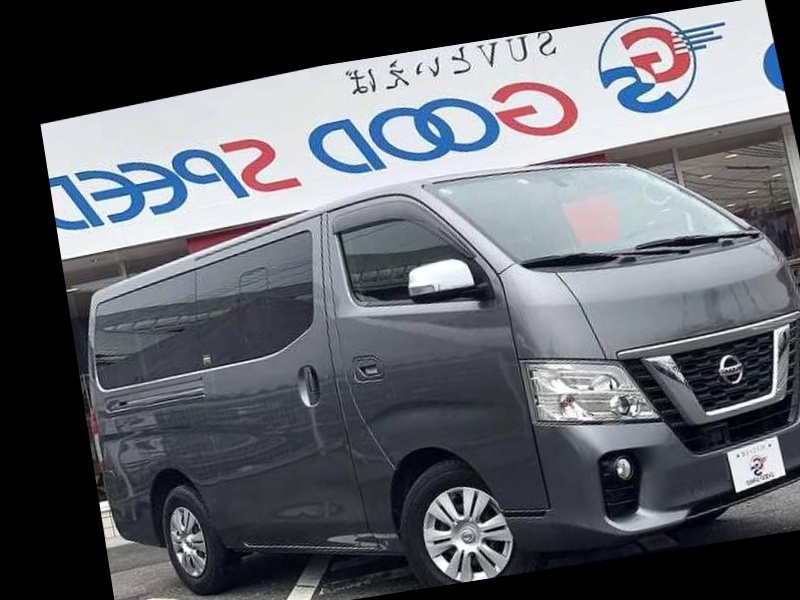van: (56, 108, 800, 600)
